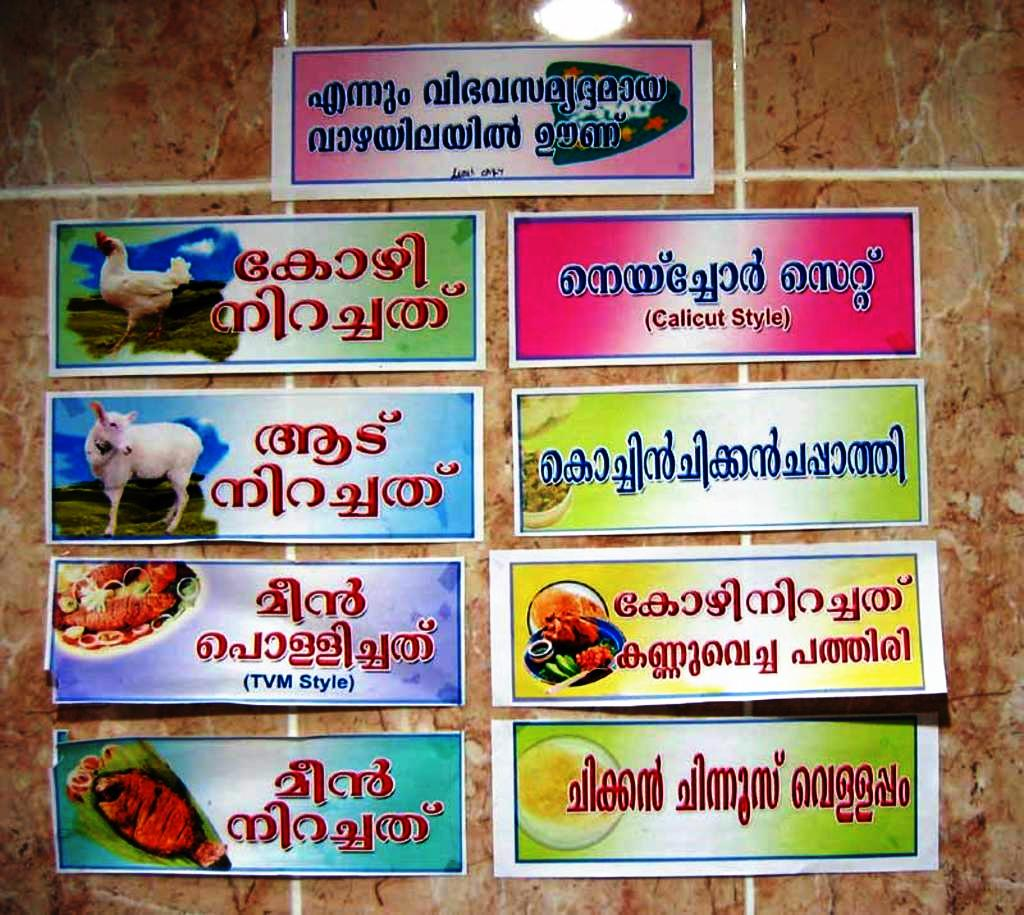Sheep: (72, 400, 232, 528)
